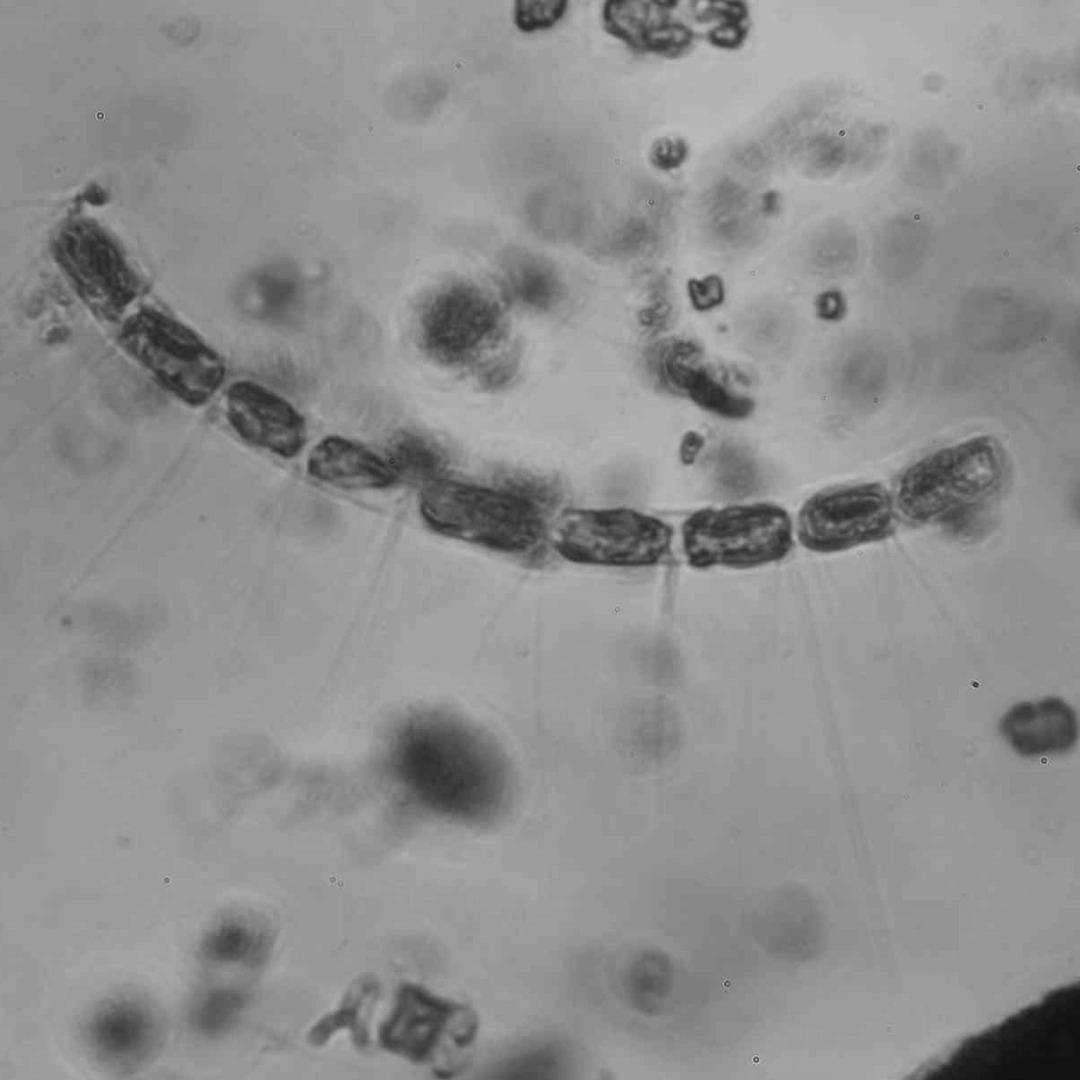chaetoceros_curvisetus: (43, 207, 1014, 753)
